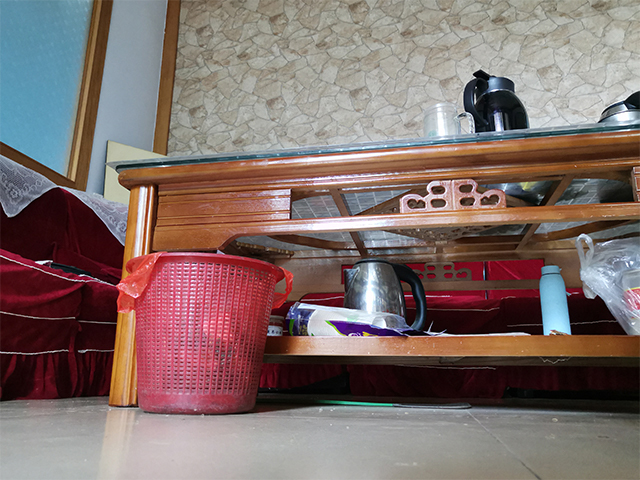sofa: (1, 153, 132, 403)
table: (101, 122, 640, 410)
trashcan: (124, 250, 286, 417)
